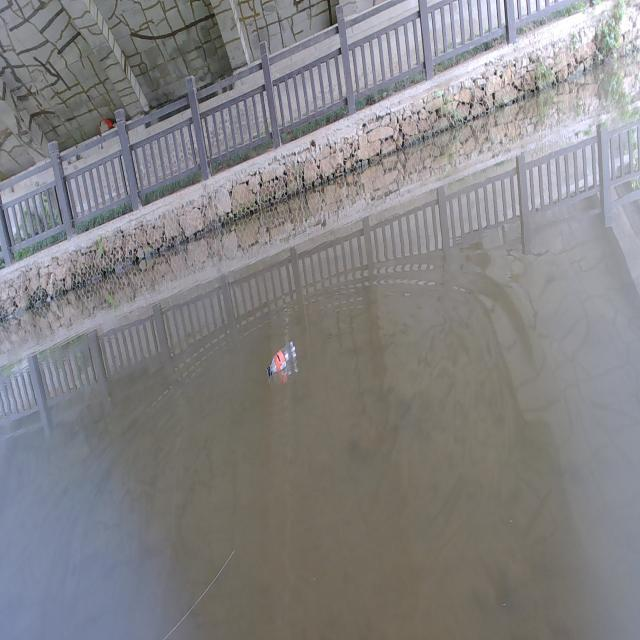Bottle: (265, 338, 297, 381)
